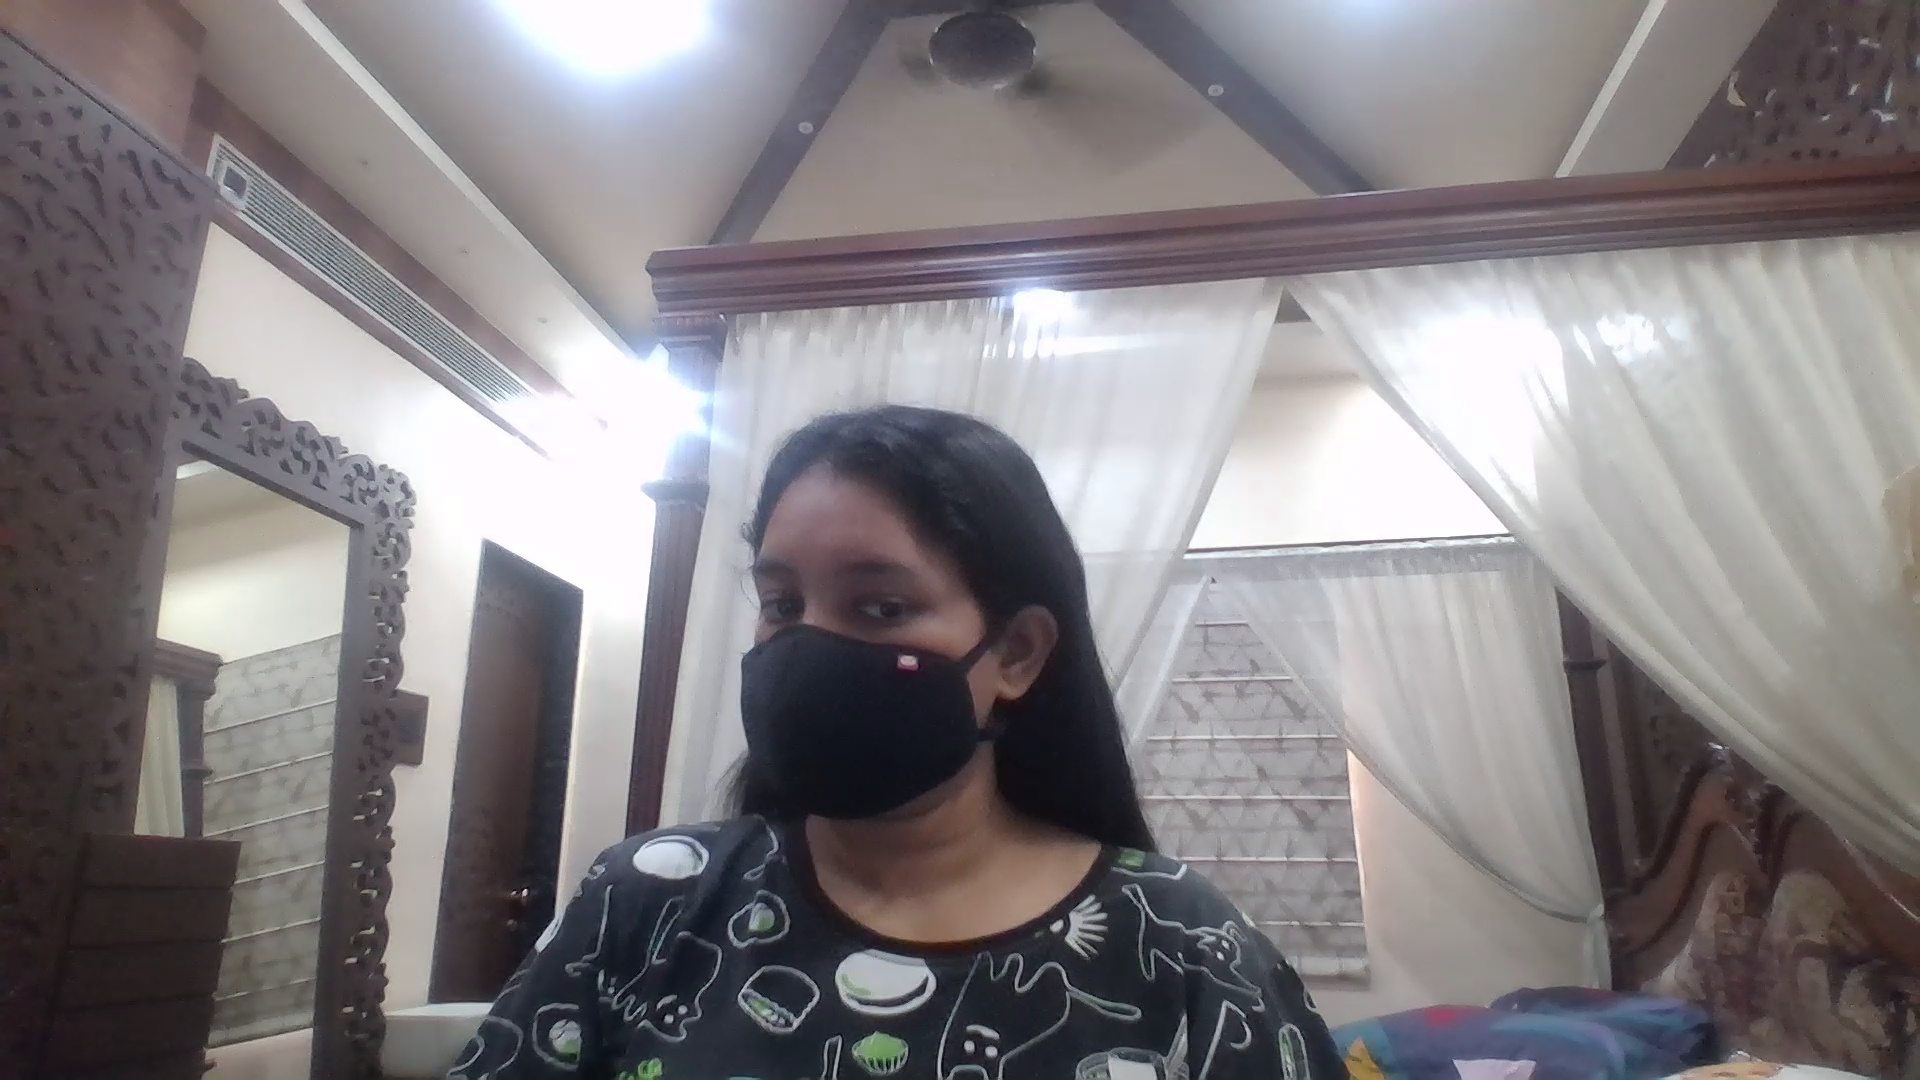Mask: (737, 625, 990, 834)
